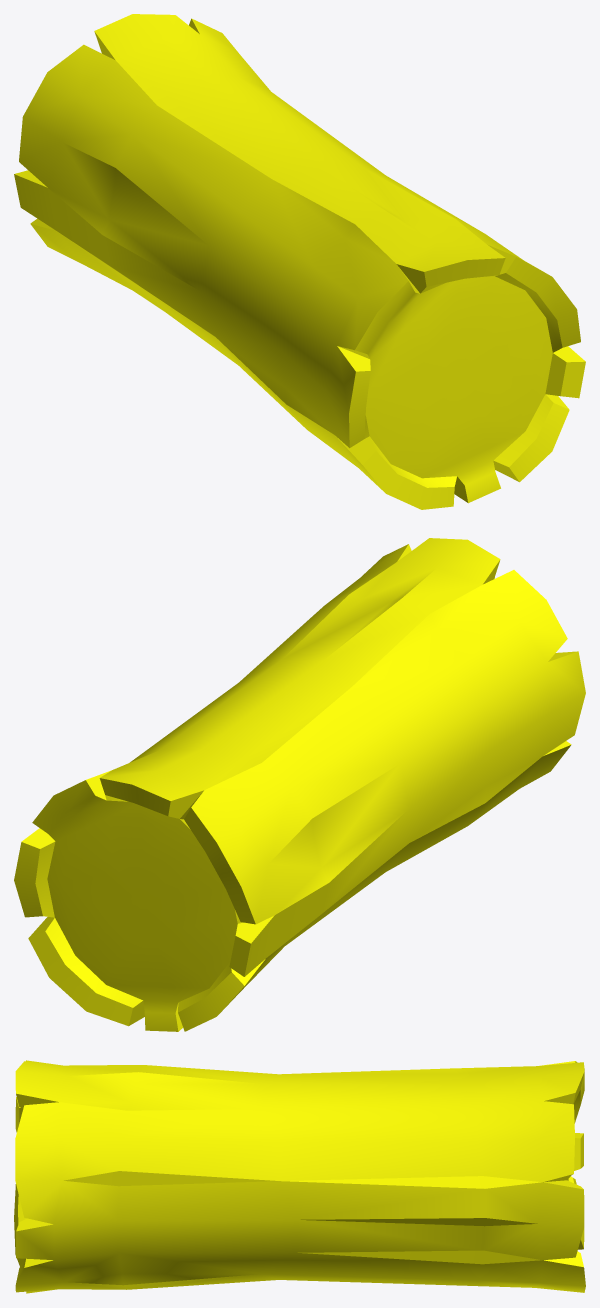
Rendered from kaykit-wood-log-b.glb.
3 views of the same model, one above another, from view 1: azimuth 30°, elevation 25°; view 2: azimuth 150°, elevation 25°; view 3: azimuth 270°, elevation 25° (orthographic). The views are drawn at different scales.
Parts seen in each view (by area): view 1: Wood_Log_B; view 2: Wood_Log_B; view 3: Wood_Log_B.
Boxes of the visible parts, x1,y1,x2,y2 form: Wood_Log_B: [14, 14, 585, 509]; Wood_Log_B: [14, 538, 585, 1031]; Wood_Log_B: [14, 1060, 585, 1293].
Size of the model in its own units: 0.549 by 0.5506 by 1.35.
